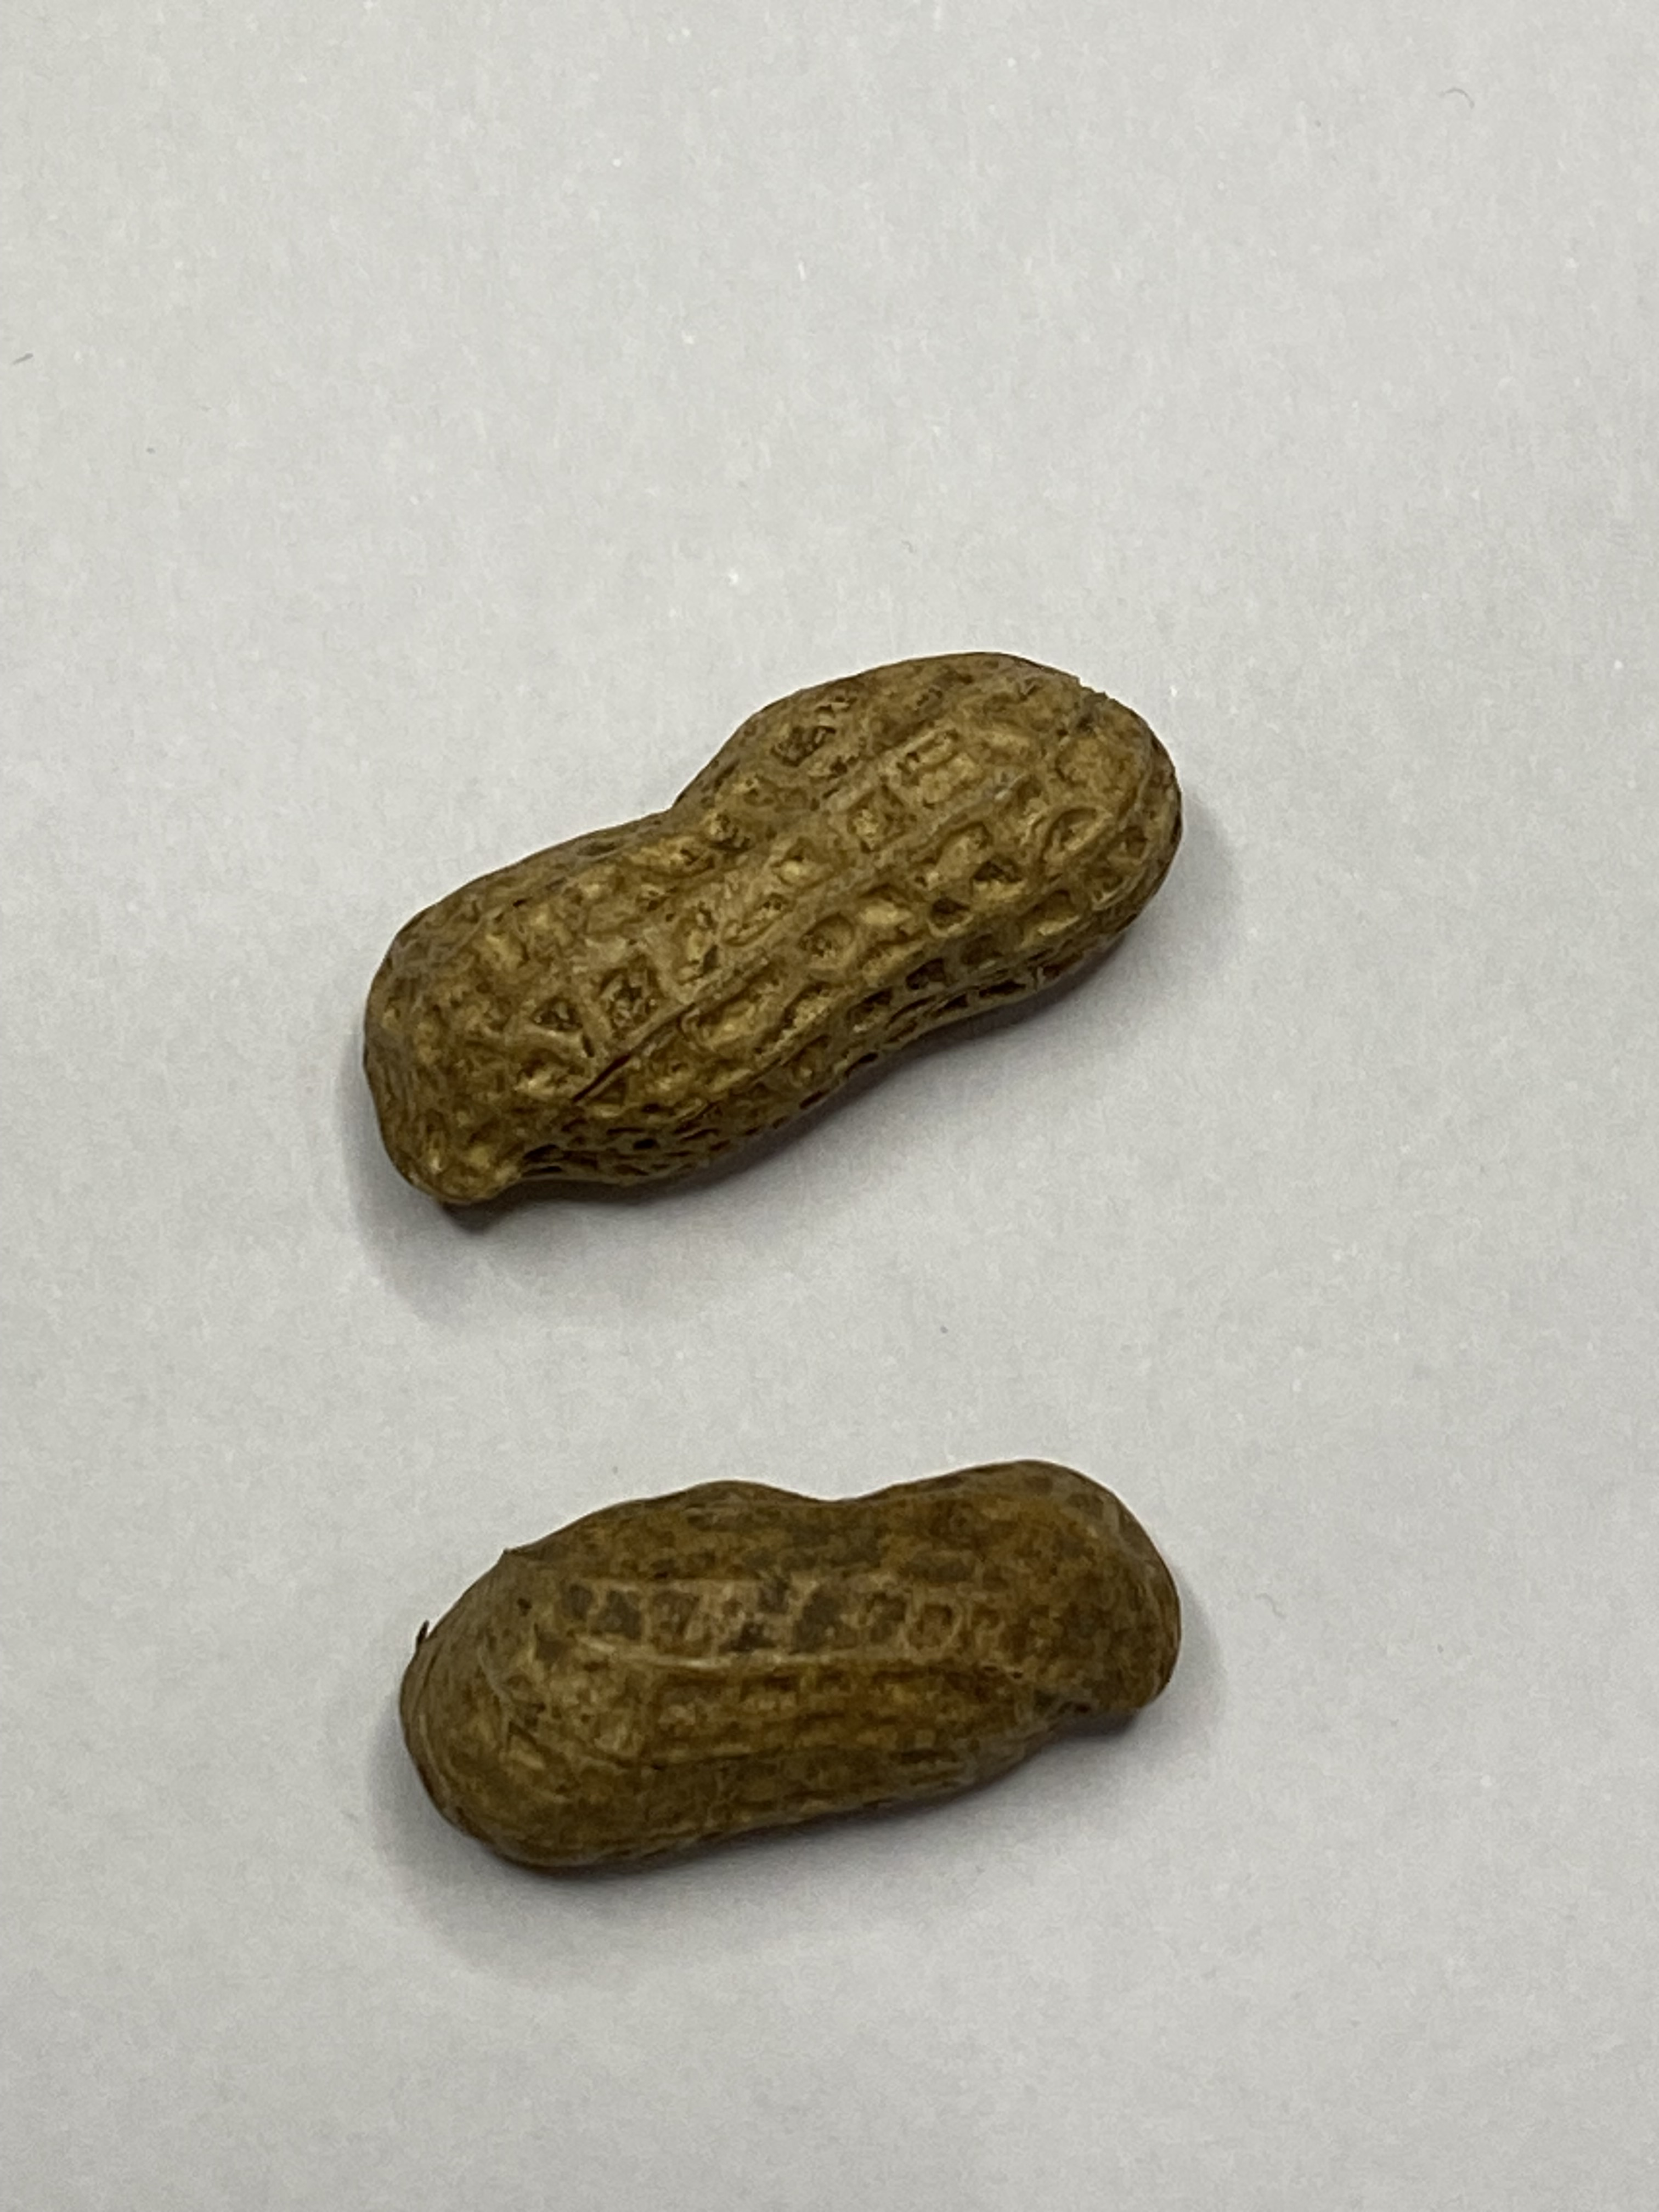kacang2: (300, 629, 1256, 1273), (378, 1411, 1253, 1878)
